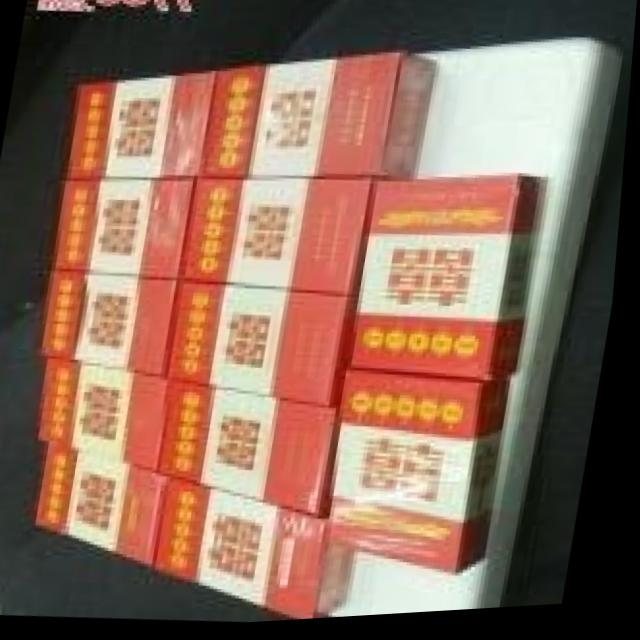box: (353, 180, 548, 383), (335, 375, 522, 581), (205, 58, 438, 184), (160, 482, 361, 624), (164, 382, 344, 523), (177, 181, 377, 302), (170, 283, 360, 409), (39, 447, 174, 574), (66, 73, 217, 181), (56, 175, 200, 282), (42, 269, 177, 382), (41, 362, 170, 475)
